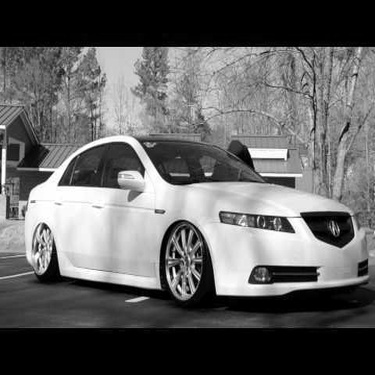car: (19, 121, 372, 313)
